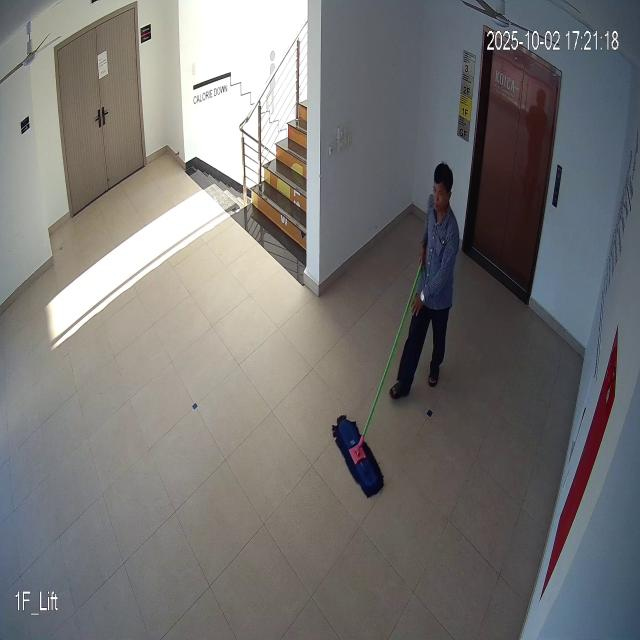face: (431, 157, 455, 220)
